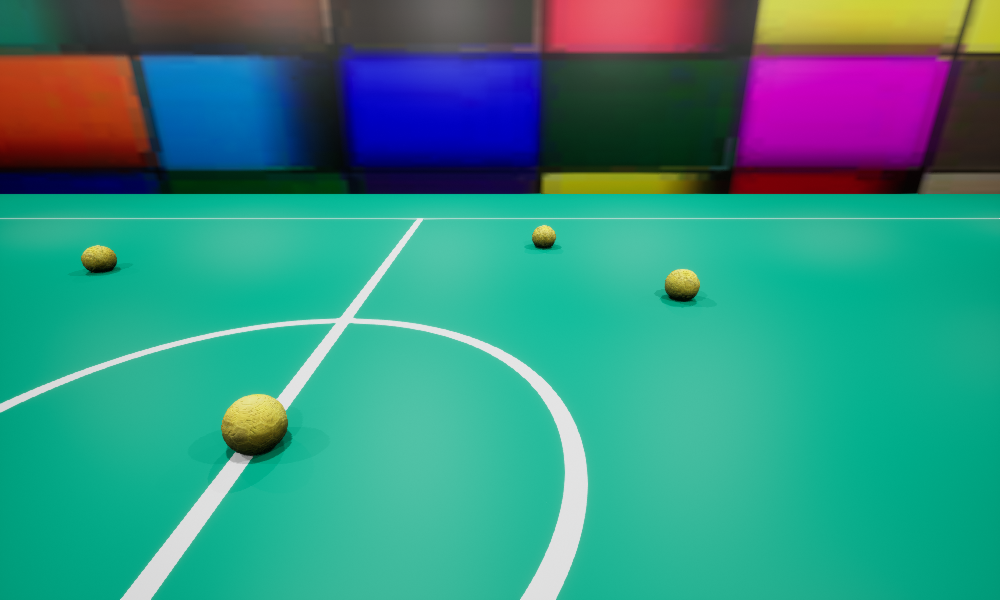b: (221, 394, 287, 454), (665, 269, 699, 300), (81, 245, 116, 272), (532, 225, 555, 247)
